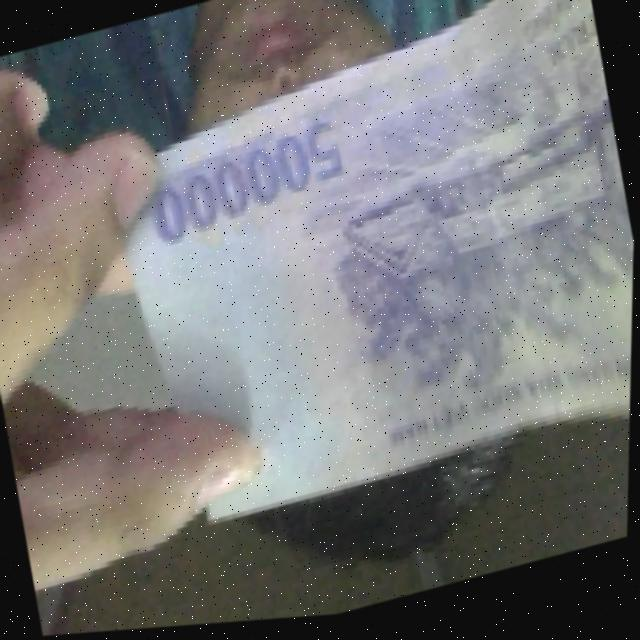500 000 VND: (73, 0, 640, 594)
